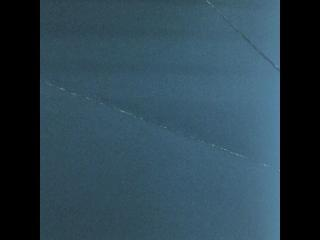crack: (39, 80, 280, 172), (205, 0, 281, 72)
